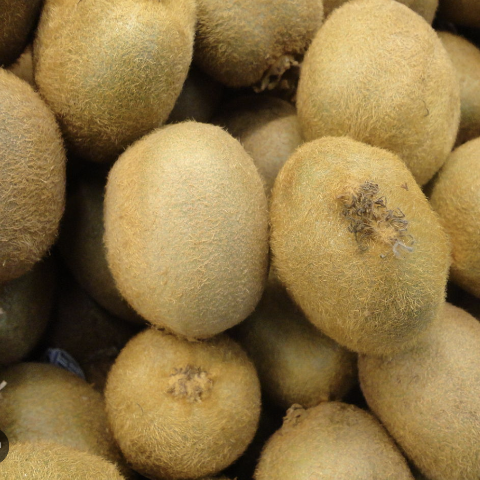kiwi: (84, 120, 290, 359), (258, 123, 455, 368), (290, 0, 467, 186), (99, 309, 264, 480)
